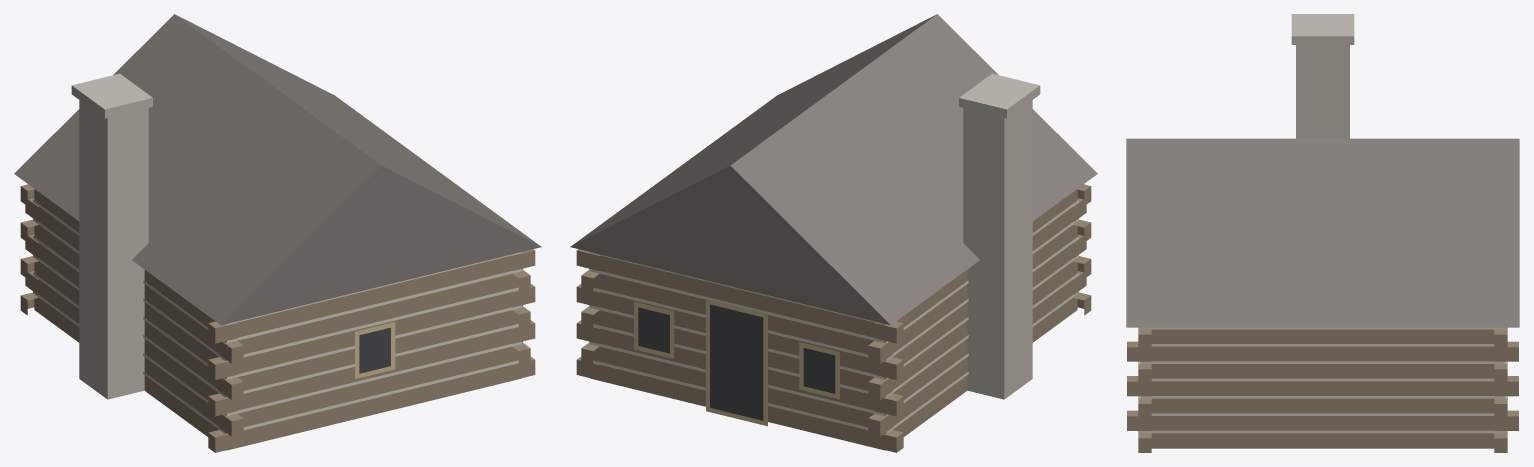
Rendered from recon_1835_north_d1_054__inferred_1835.glb.
The picture shows the model from 3 angles, left to right: view 1: azimuth 30°, elevation 25°; view 2: azimuth 150°, elevation 25°; view 3: azimuth 270°, elevation 25°; orthographic projection. The views are drawn at different scales.
Parts seen in each view (by area): view 1: recon_1835_north_d1_054__inferred_1835; view 2: recon_1835_north_d1_054__inferred_1835; view 3: recon_1835_north_d1_054__inferred_1835.
Part boxes in pixels (x1,y1,x2,y2): recon_1835_north_d1_054__inferred_1835: (14,14,541,452); recon_1835_north_d1_054__inferred_1835: (570,14,1097,452); recon_1835_north_d1_054__inferred_1835: (1126,14,1519,452).
Bounding box in the file's own units: 6.84 × 5.54 × 7.01.
